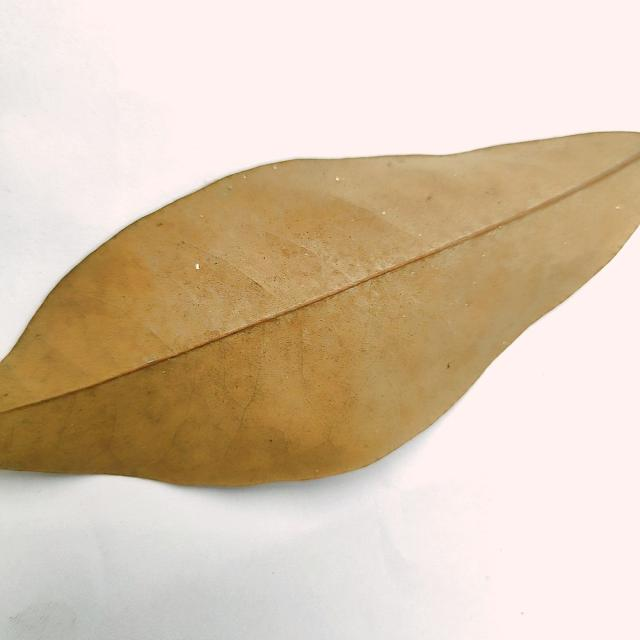Dry_Leaf-Lychee: (0, 131, 639, 492)
